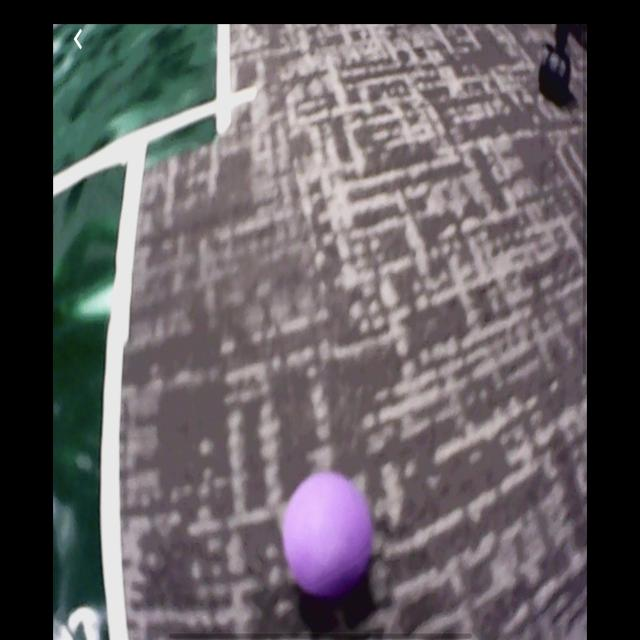ball: (282, 475, 371, 600)
